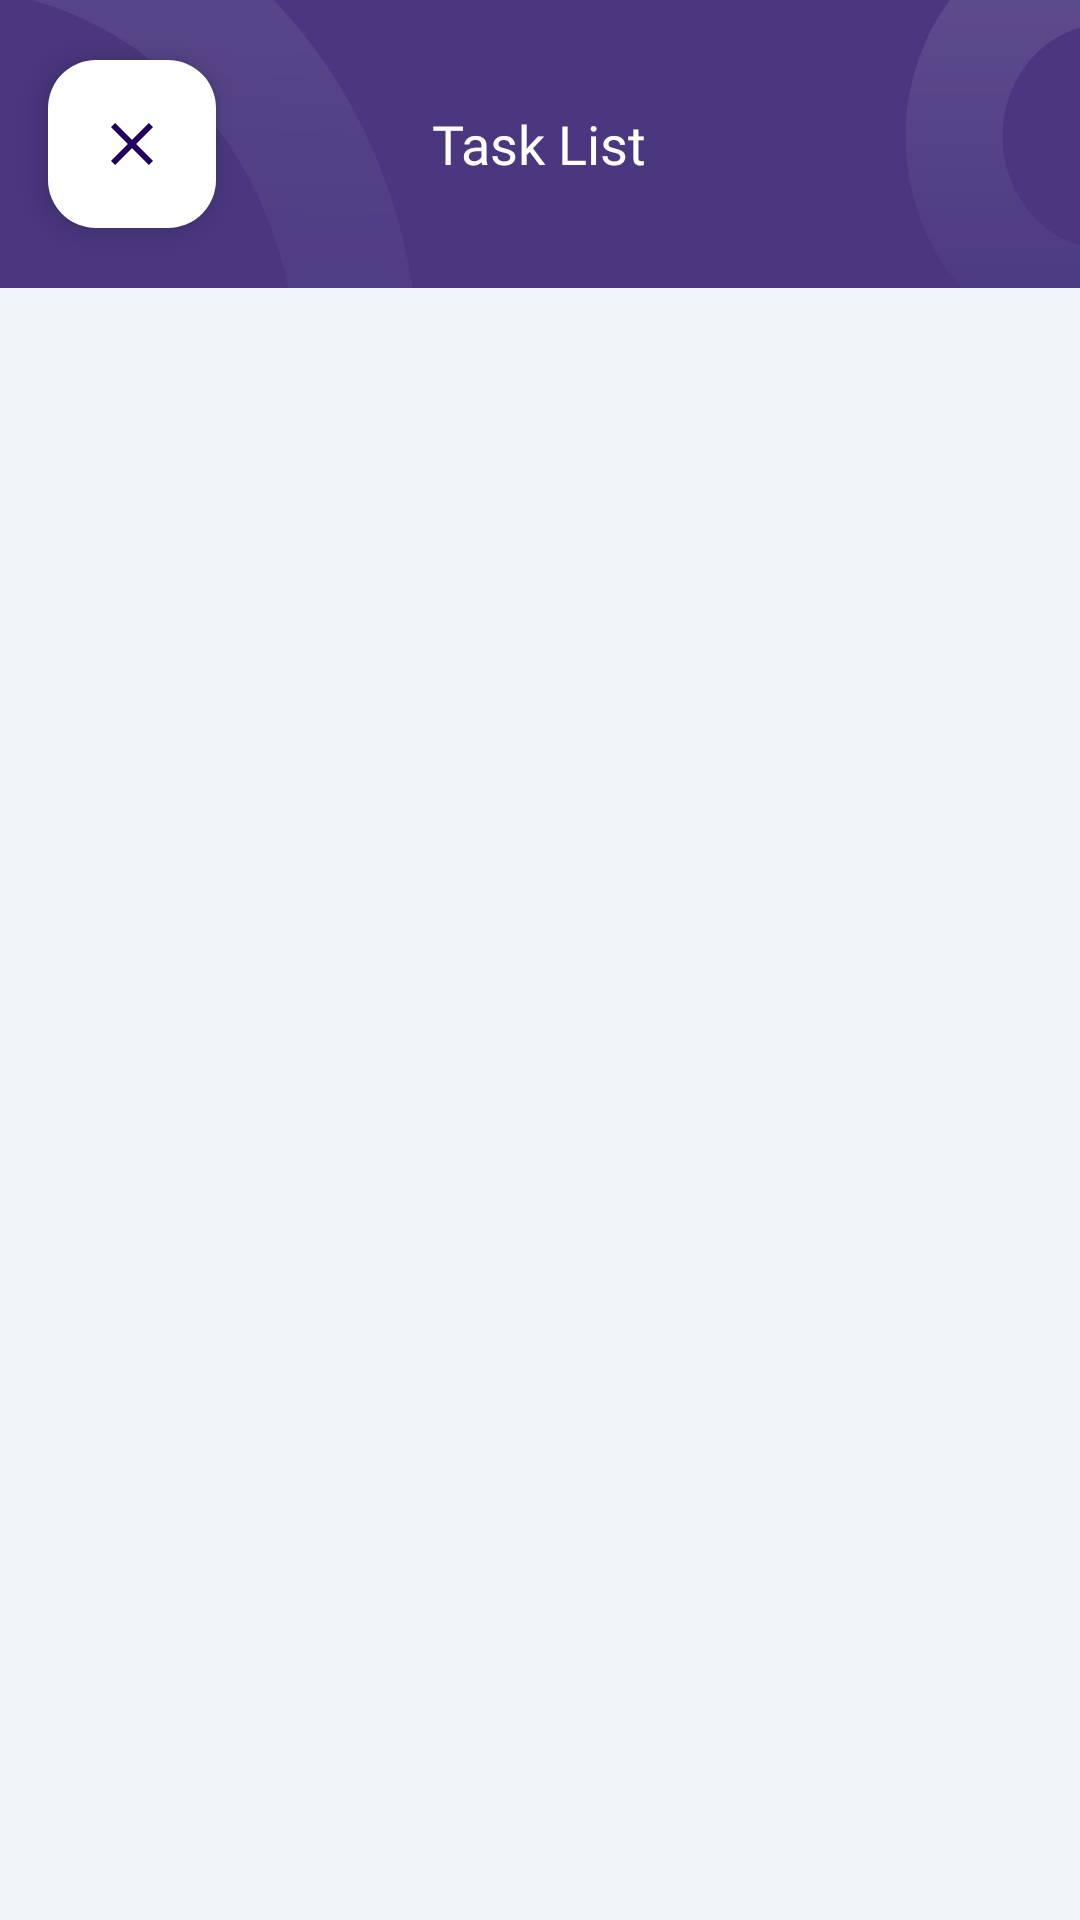

Where to tap for icons on this 1080px x 1920px app screen, as (x=x, y=y):
close: (x=132, y=144)
